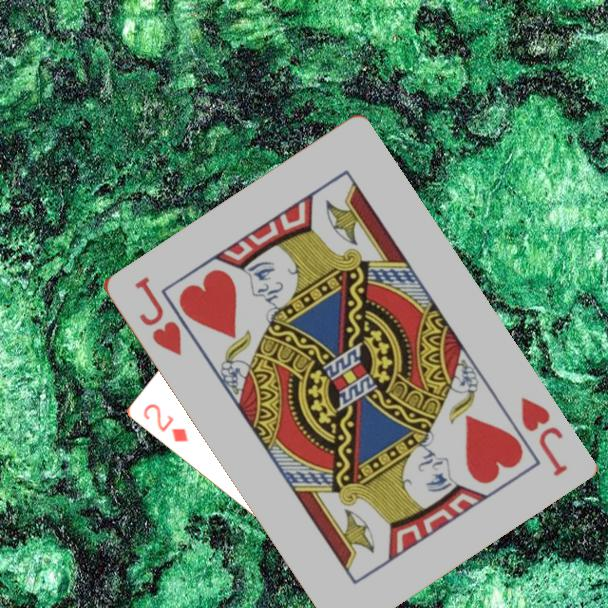d02: (139, 400, 191, 445)
h11: (516, 392, 571, 480), (130, 272, 184, 359)
